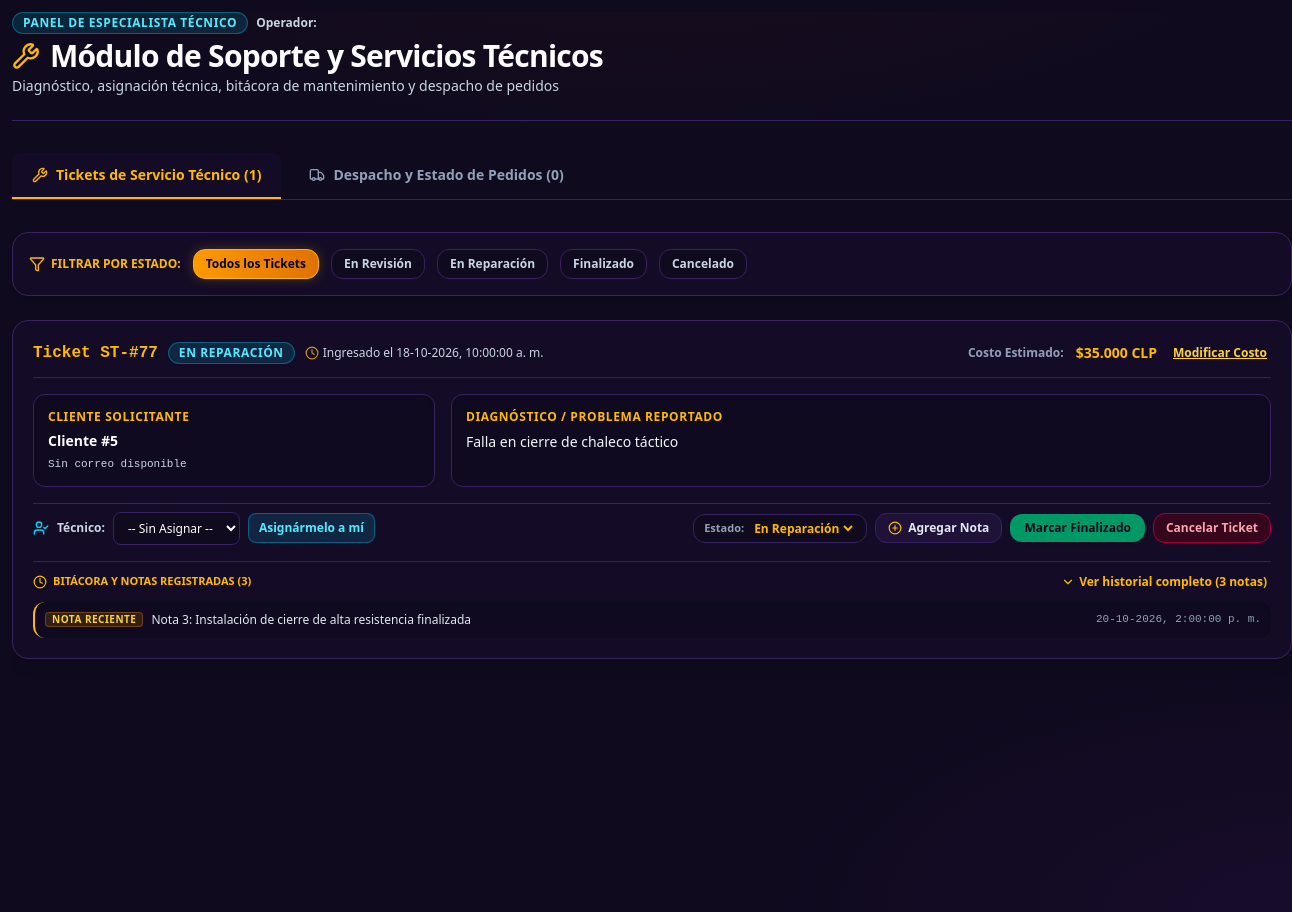
it: Nuevas Funcionalidades: Registro, Toggle de Vista, Tema Claro/Oscuro › muestra únicamente la nota más reciente por defecto en la bitácora técnica y permite expandir el historial completo
The width and height of the screenshot is (1292, 912).
Expected: the text "Ticket ST-#77" is shown, [33, 341, 158, 365]
Expected: the text "Nota 3: Instalación de cierre de alta resistencia finalizada" is shown, [152, 612, 471, 628]
Note: Hacer click para expandir
Click the button "Ver historial completo (3 notas)". click: [1164, 582]
box: [1057, 570, 1271, 594]
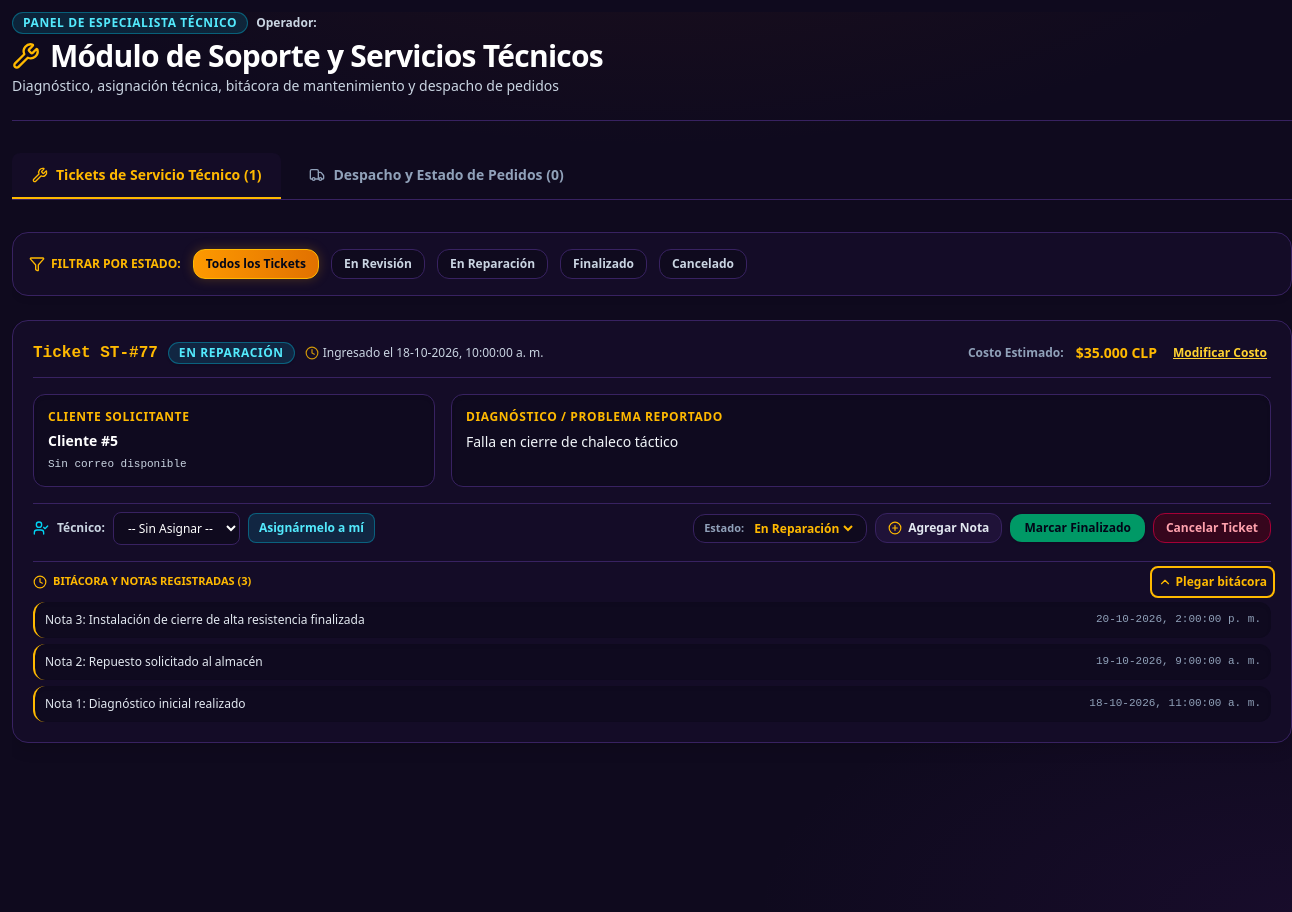
Result: the text "Nota 1: Diagnóstico inicial realizado" is shown at [45, 696, 246, 712]
Result: the text "Nota 2: Repuesto solicitado al almacén" is shown at [45, 654, 263, 670]
Result: the button "Plegar bitácora" is shown
Note: Hacer click para plegar nuevamente
Click the button "Plegar bitácora". click: [1212, 582]
box: [1154, 570, 1271, 594]
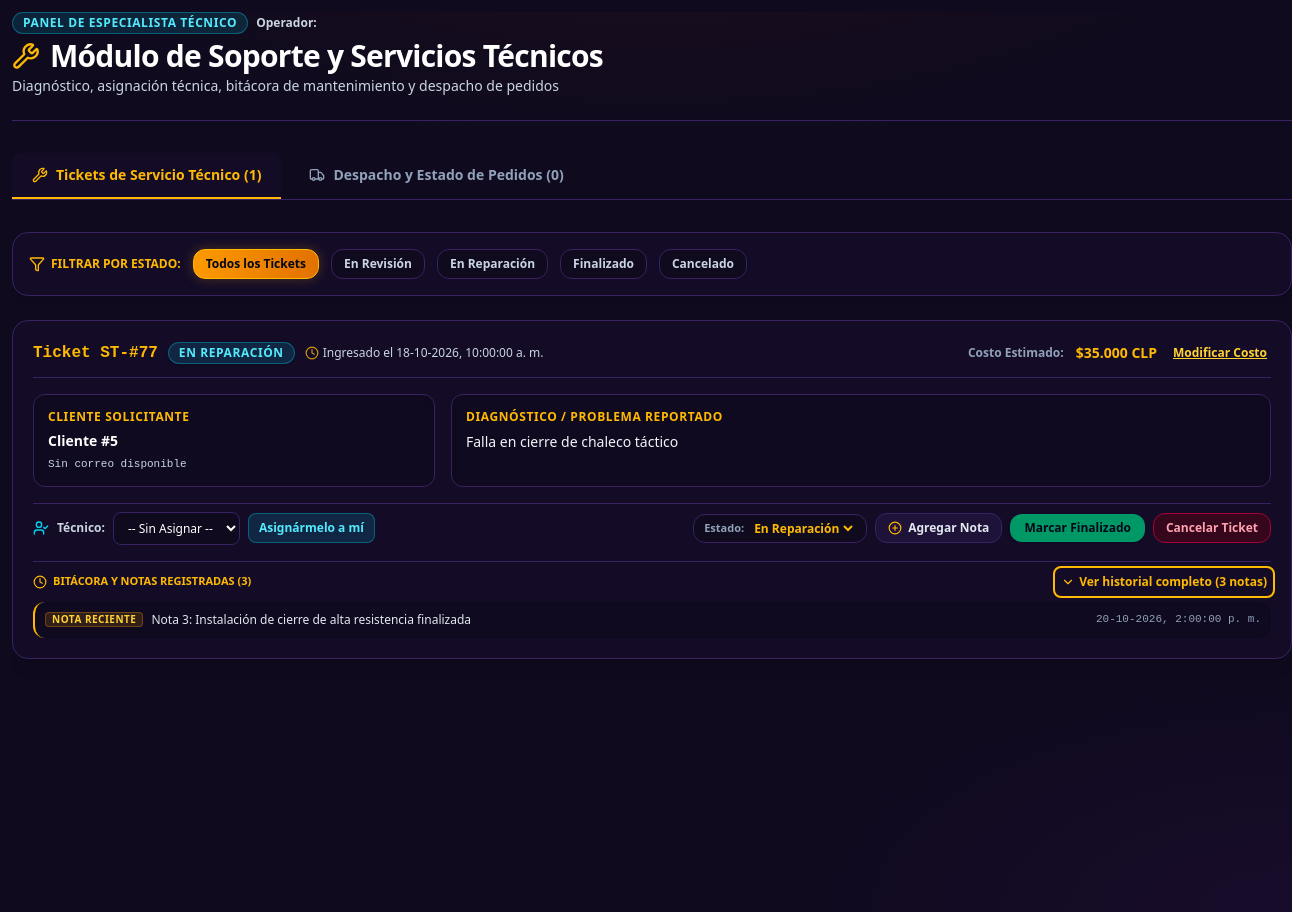
Result: the text "Nota 1: Diagnóstico inicial realizado" is gone
